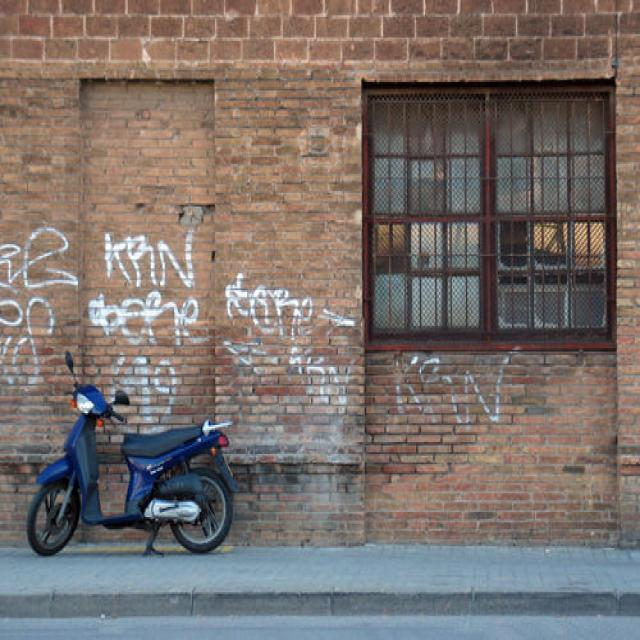motor: (26, 342, 243, 557)
